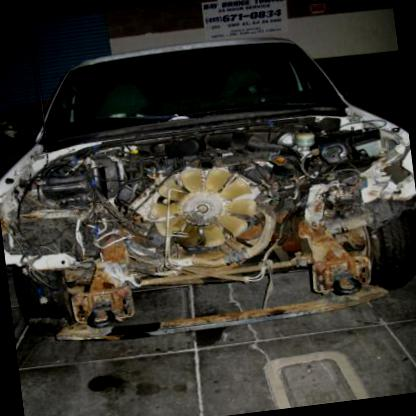car: (0, 16, 415, 356)
